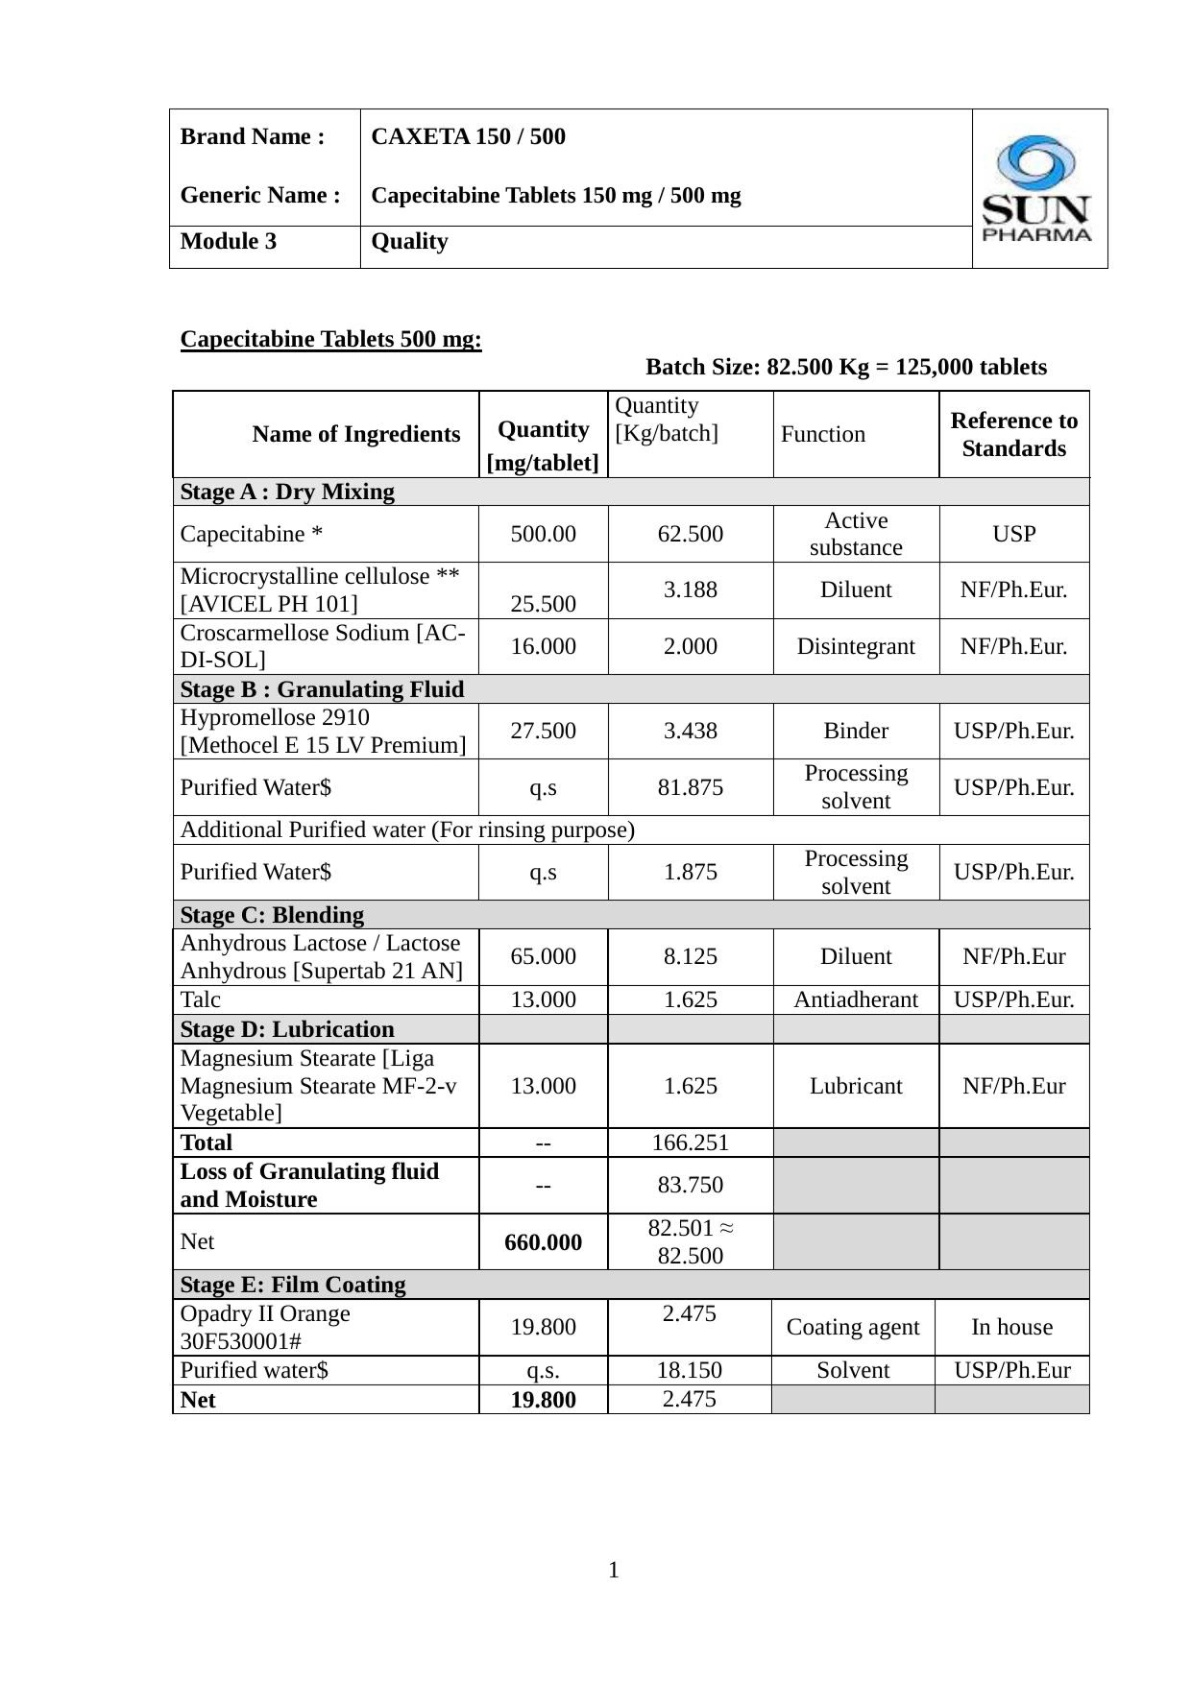merged_cells: (172, 389, 1091, 1415), (169, 108, 1109, 269)
